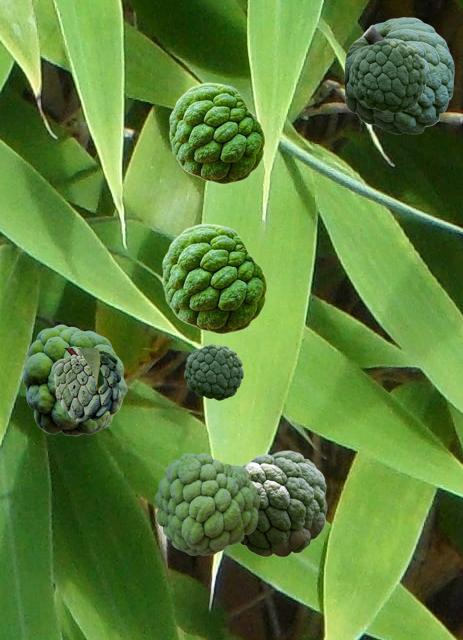atis: (344, 17, 453, 133), (22, 324, 126, 435), (162, 223, 266, 333), (154, 453, 258, 554), (169, 82, 264, 183), (239, 450, 326, 556), (52, 348, 156, 421), (349, 39, 425, 112), (184, 344, 242, 399)
